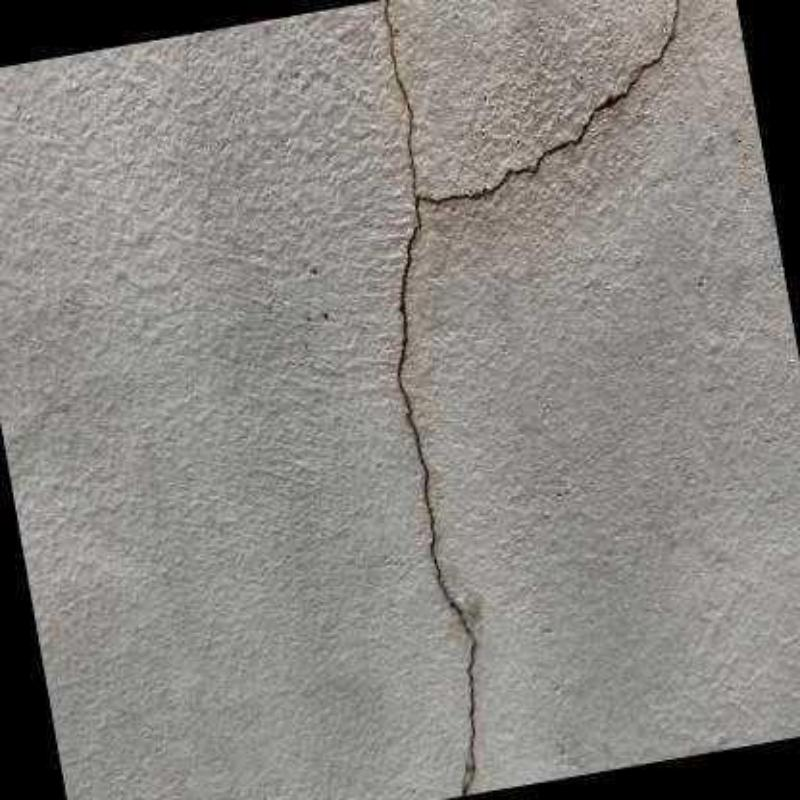crack: (385, 1, 684, 797)
